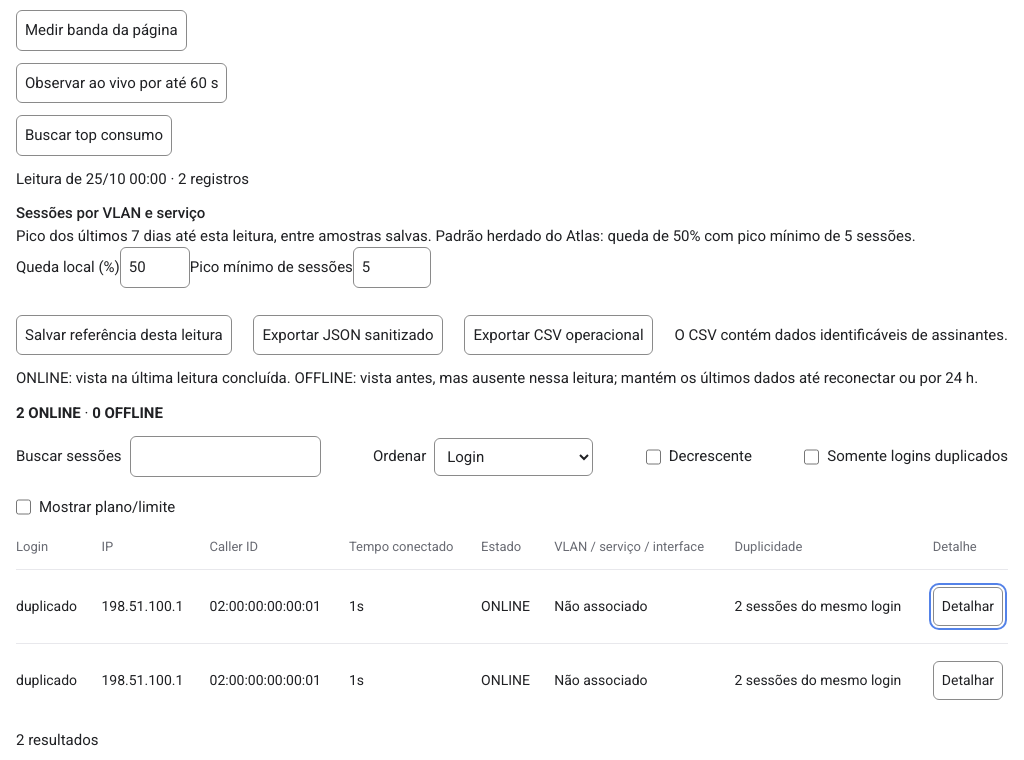
Test: A-H01: late detail success cannot restore a filtered intent or steal focus
The width and height of the screenshot is (1024, 760).
(page scrolled)
Click the button with aria-label "Detalhar duplicado row-1". click: coordinates (968, 607)
box: [933, 587, 1003, 626]
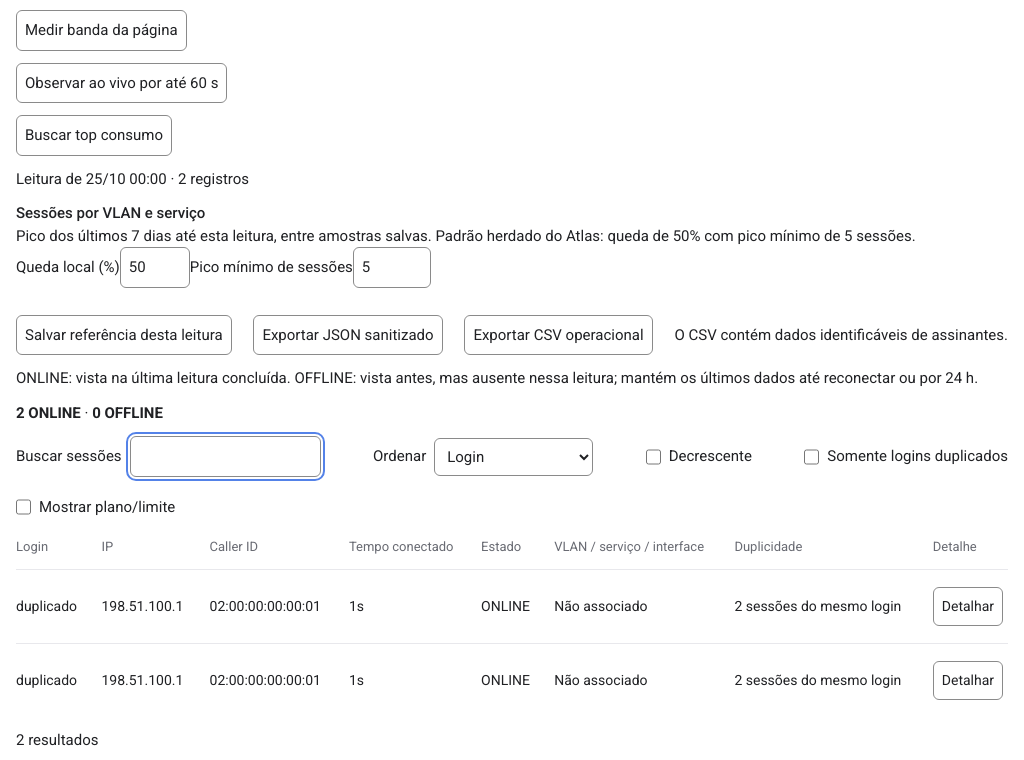
Type "nova intenção" into the field labelled "Buscar sessões". click: coordinates (225, 457)
box: [130, 436, 321, 477]
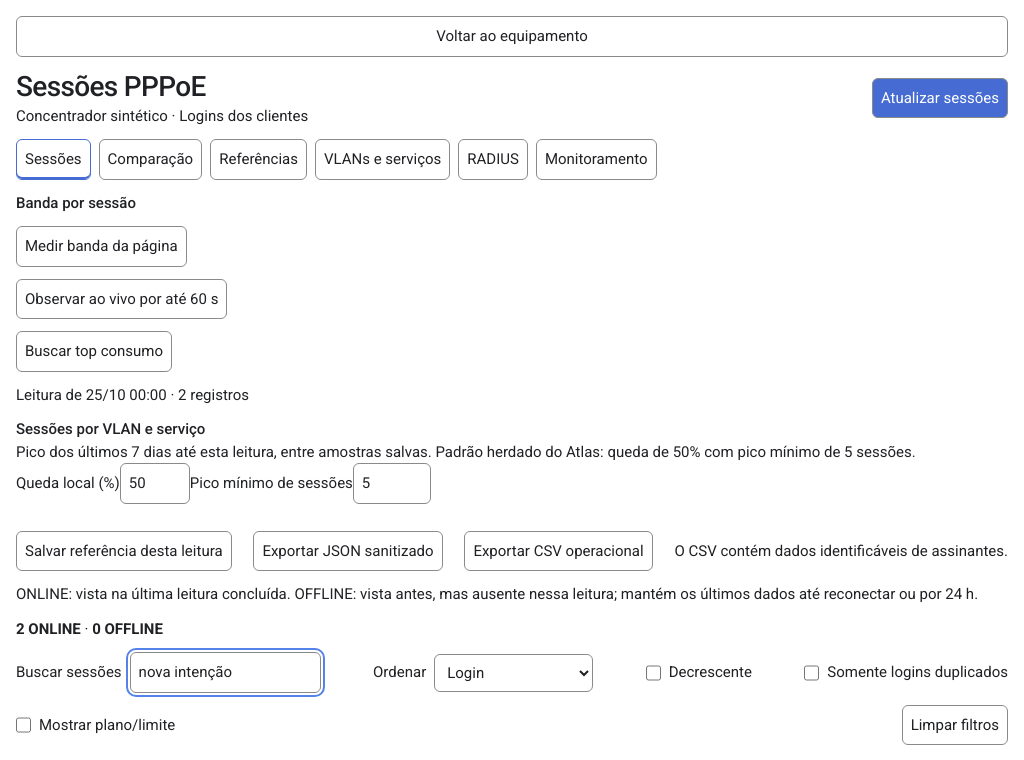
Result: the message "2 resultados" is gone
